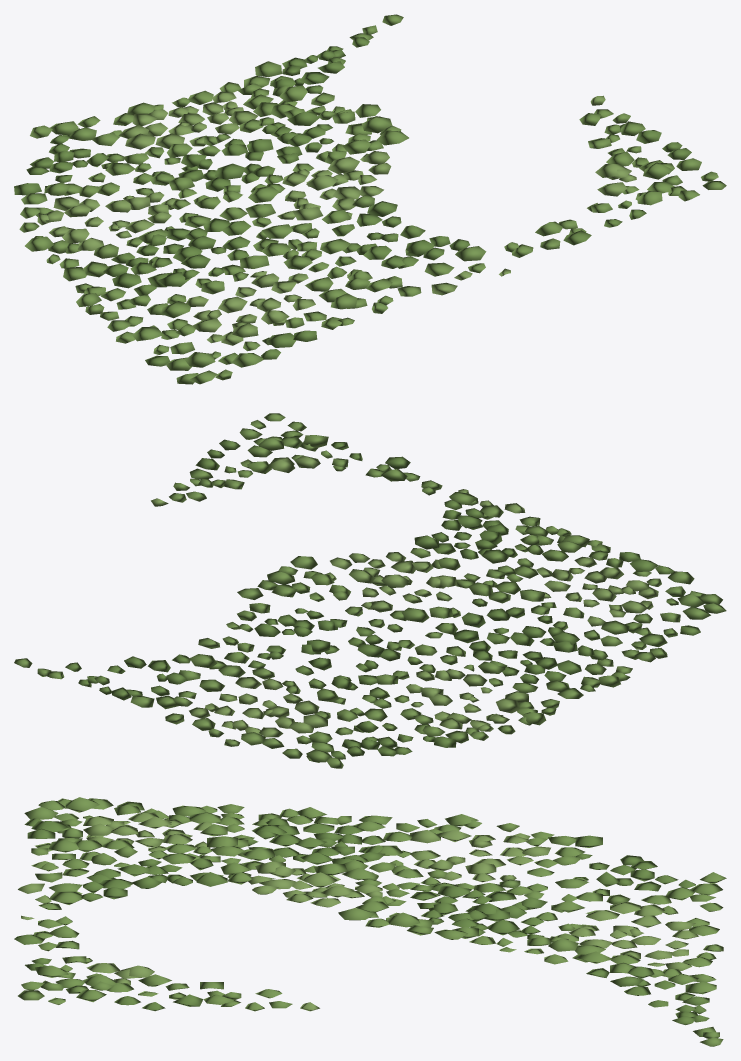
File: canopy-1--3-3.glb
3 renders of one model, top to bottom at view 1: azimuth 30°, elevation 25°; view 2: azimuth 150°, elevation 25°; view 3: azimuth 270°, elevation 25°, orthographic. The views are drawn at different scales.
Bounding box in the file's own units: 512 × 85 × 518.
1 material, 1 textured.
